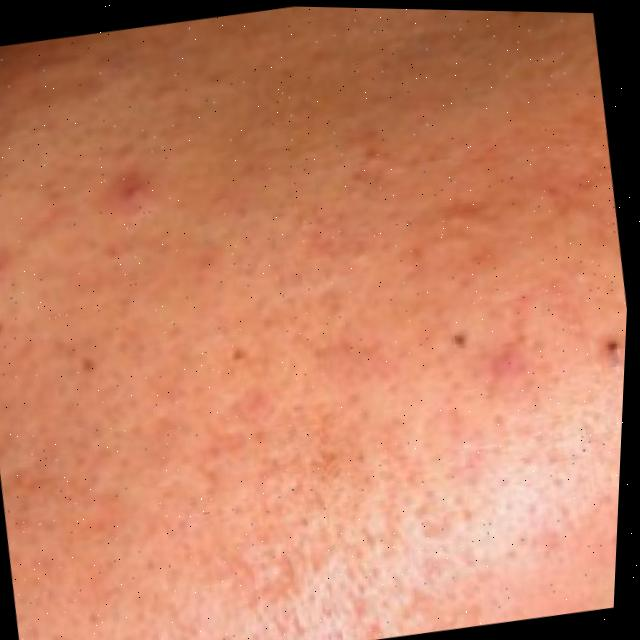Acne: (12, 1, 640, 580)
